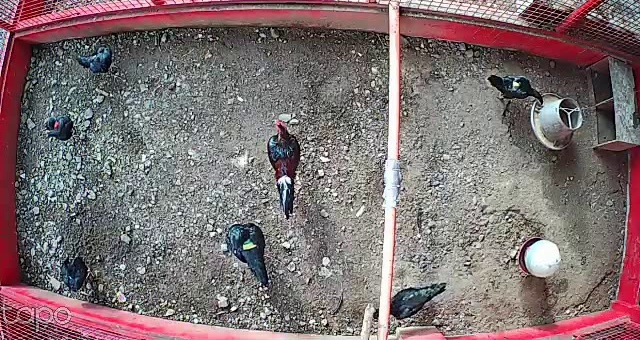Chicken: (368, 278, 447, 324), (221, 220, 275, 287), (487, 69, 546, 107), (58, 254, 102, 293), (75, 42, 120, 79), (42, 110, 86, 145)
Rooster: (263, 115, 307, 221)
Saddle_Color_YellowGreen: (241, 238, 258, 249)
